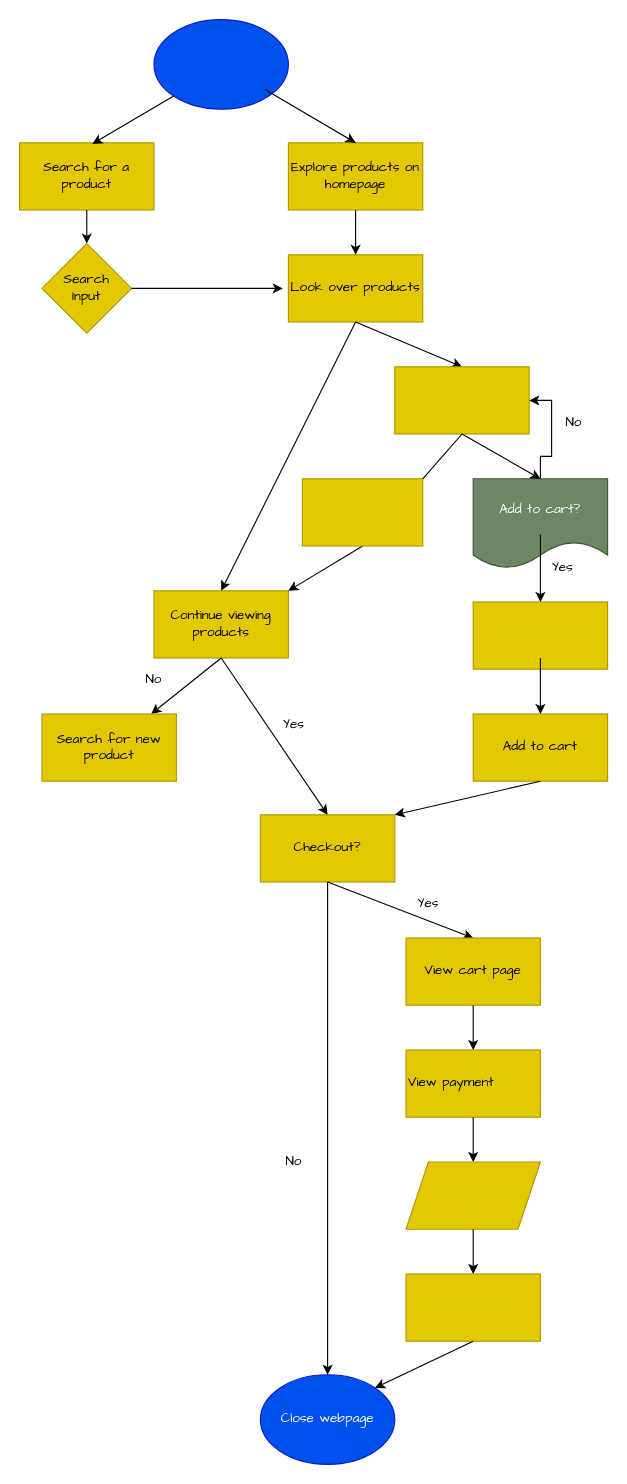
Some shapes in this 627 by 1484 pixel diagram are drawn without their labels. Here are the shapes that lost their labels. From the top down, the box of each, then its label:
(153, 18, 288, 109): User enters homepage
(394, 366, 529, 434): View a specific product
(301, 478, 423, 546): Choose to view specific product page
(472, 601, 608, 669): Add to cart confirmation
(405, 1161, 540, 1229): Input payment information
(405, 1273, 540, 1341): Order confirmation and receive email
